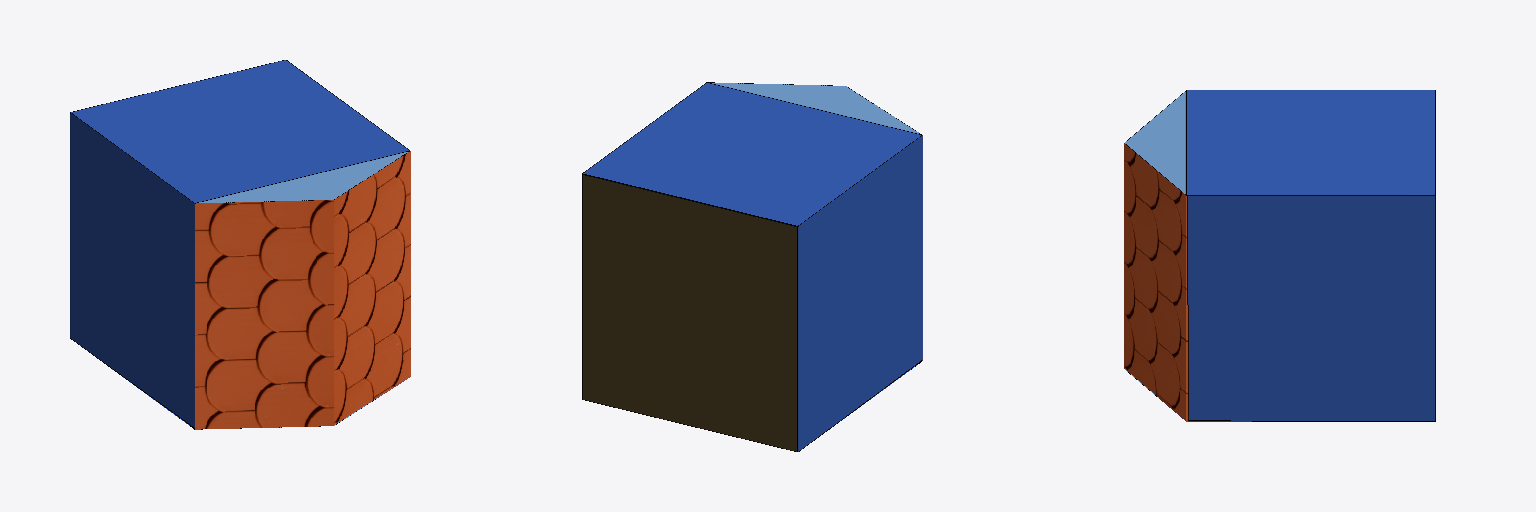
3 renders of one model, left to right at view 1: azimuth 30°, elevation 25°; view 2: azimuth 150°, elevation 25°; view 3: azimuth 270°, elevation 25°, orthographic.
Parts seen in each view (by area): view 1: housever2.001; view 2: housever2.001; view 3: housever2.001.
Boxes of the visible parts, x1=… form: housever2.001: x1=70, y1=60, x2=410, y2=429; housever2.001: x1=582, y1=82, x2=922, y2=451; housever2.001: x1=1124, y1=90, x2=1435, y2=421.
Bounding box in the file's own units: 2 × 2 × 2.5.
1 materials, 1 textured.